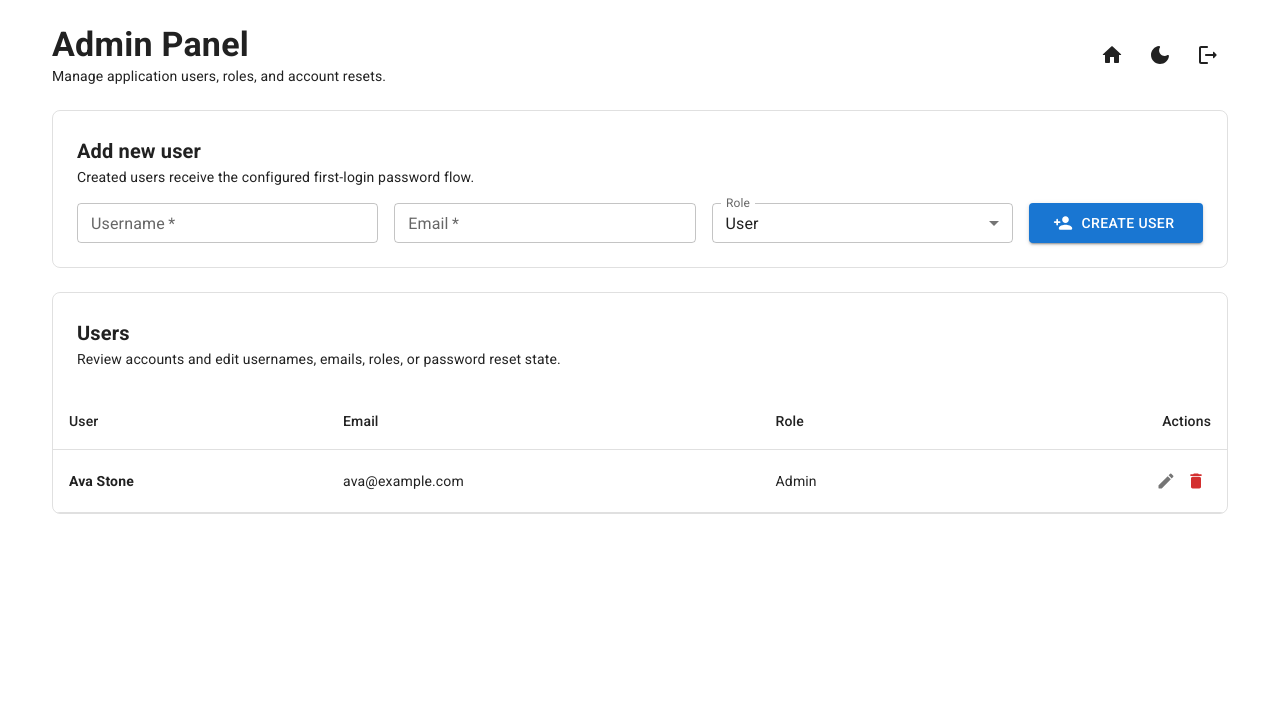
Test case: <AdminPanelPage /> › opens a user from the list and saves edits
Click the button named "edit ava stone": click(1166, 481) [1151, 466, 1181, 496]
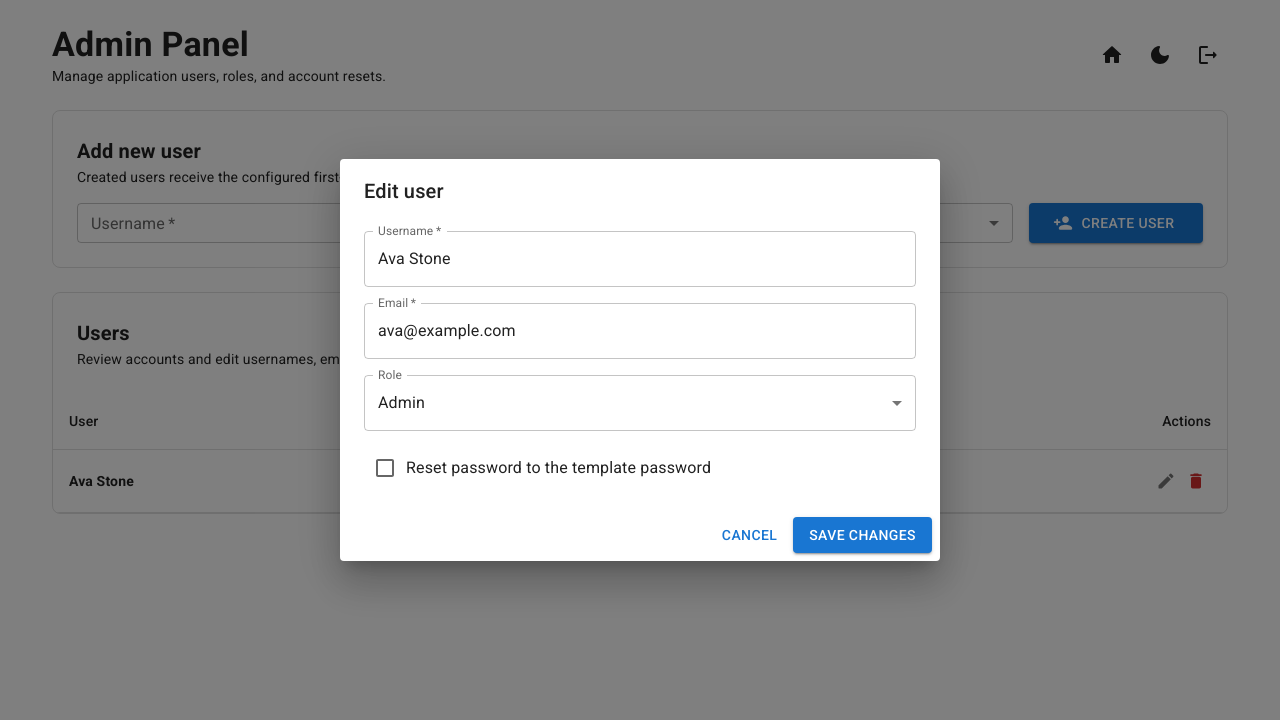
Replace the text in the field labelled "Email *" with "ava.updated@example.com": (640, 331) [364, 303, 916, 359]
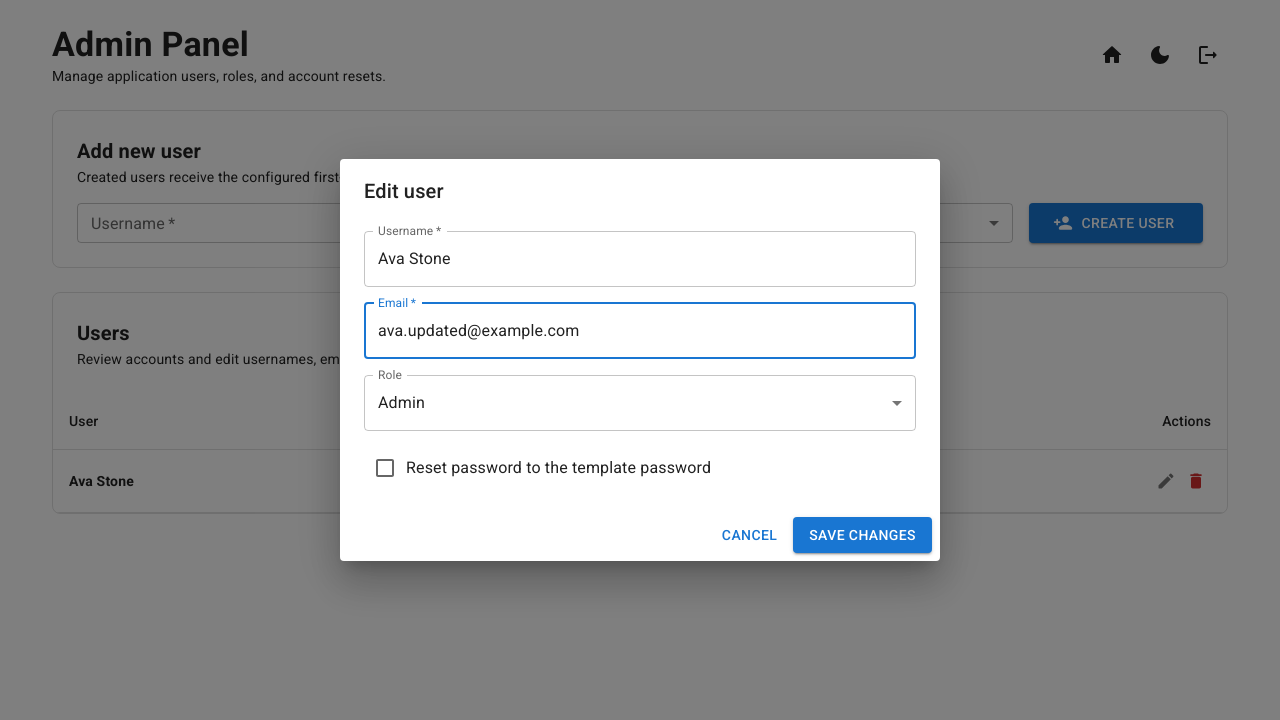
Click the button "Save changes": click(863, 535) [793, 517, 932, 553]
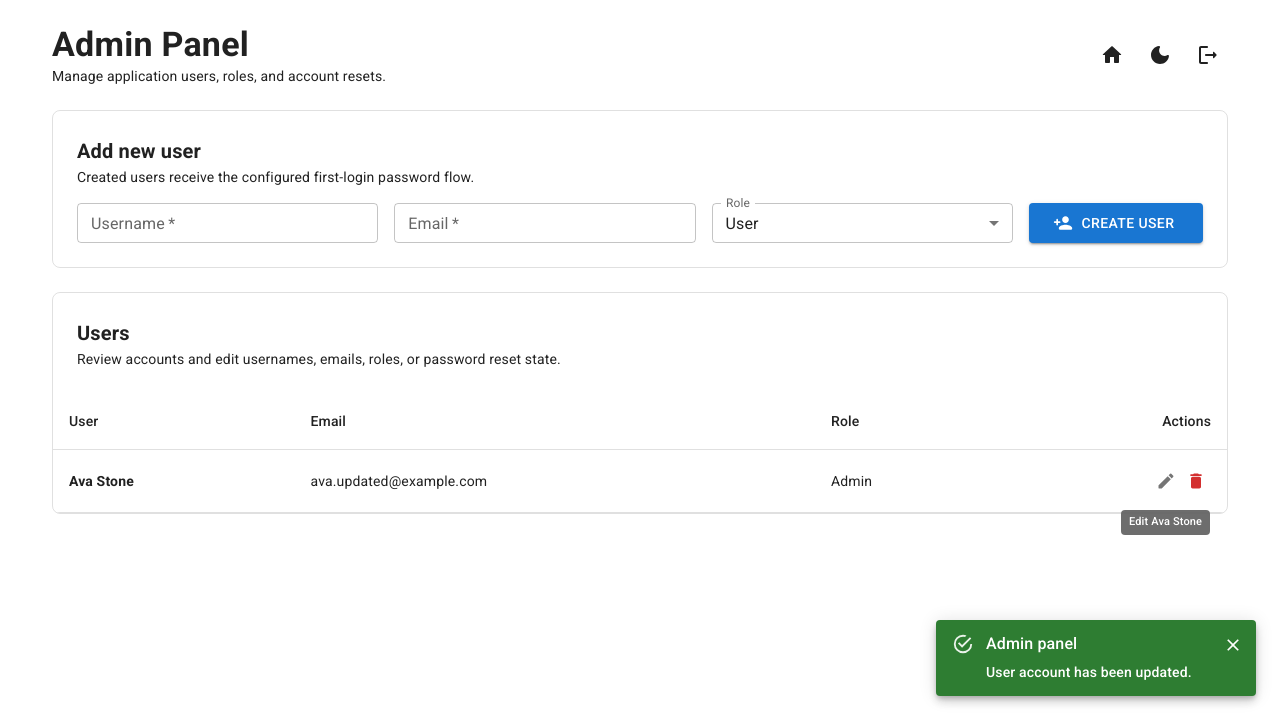
Expected: the text "ava.updated@example.com" is shown, [294, 450, 815, 512]
